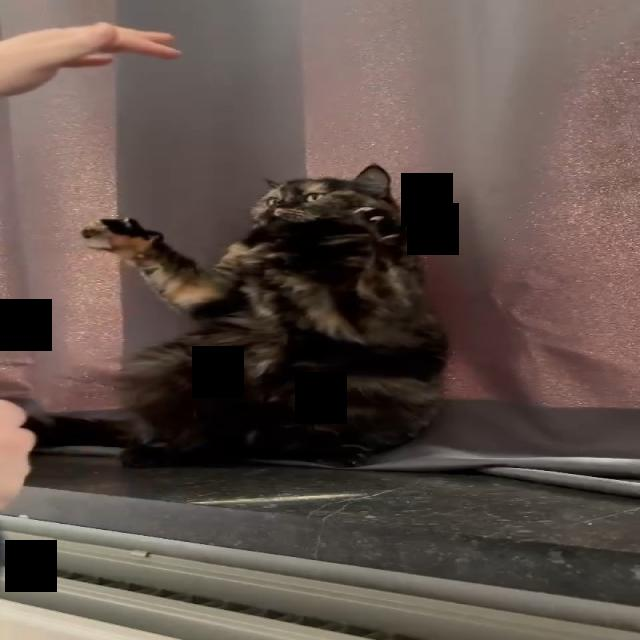authorized: (78, 162, 450, 469)
